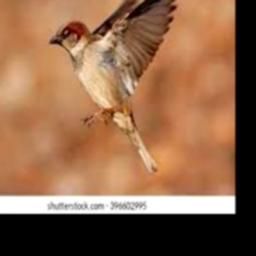Sparrow: (48, 0, 181, 173)
